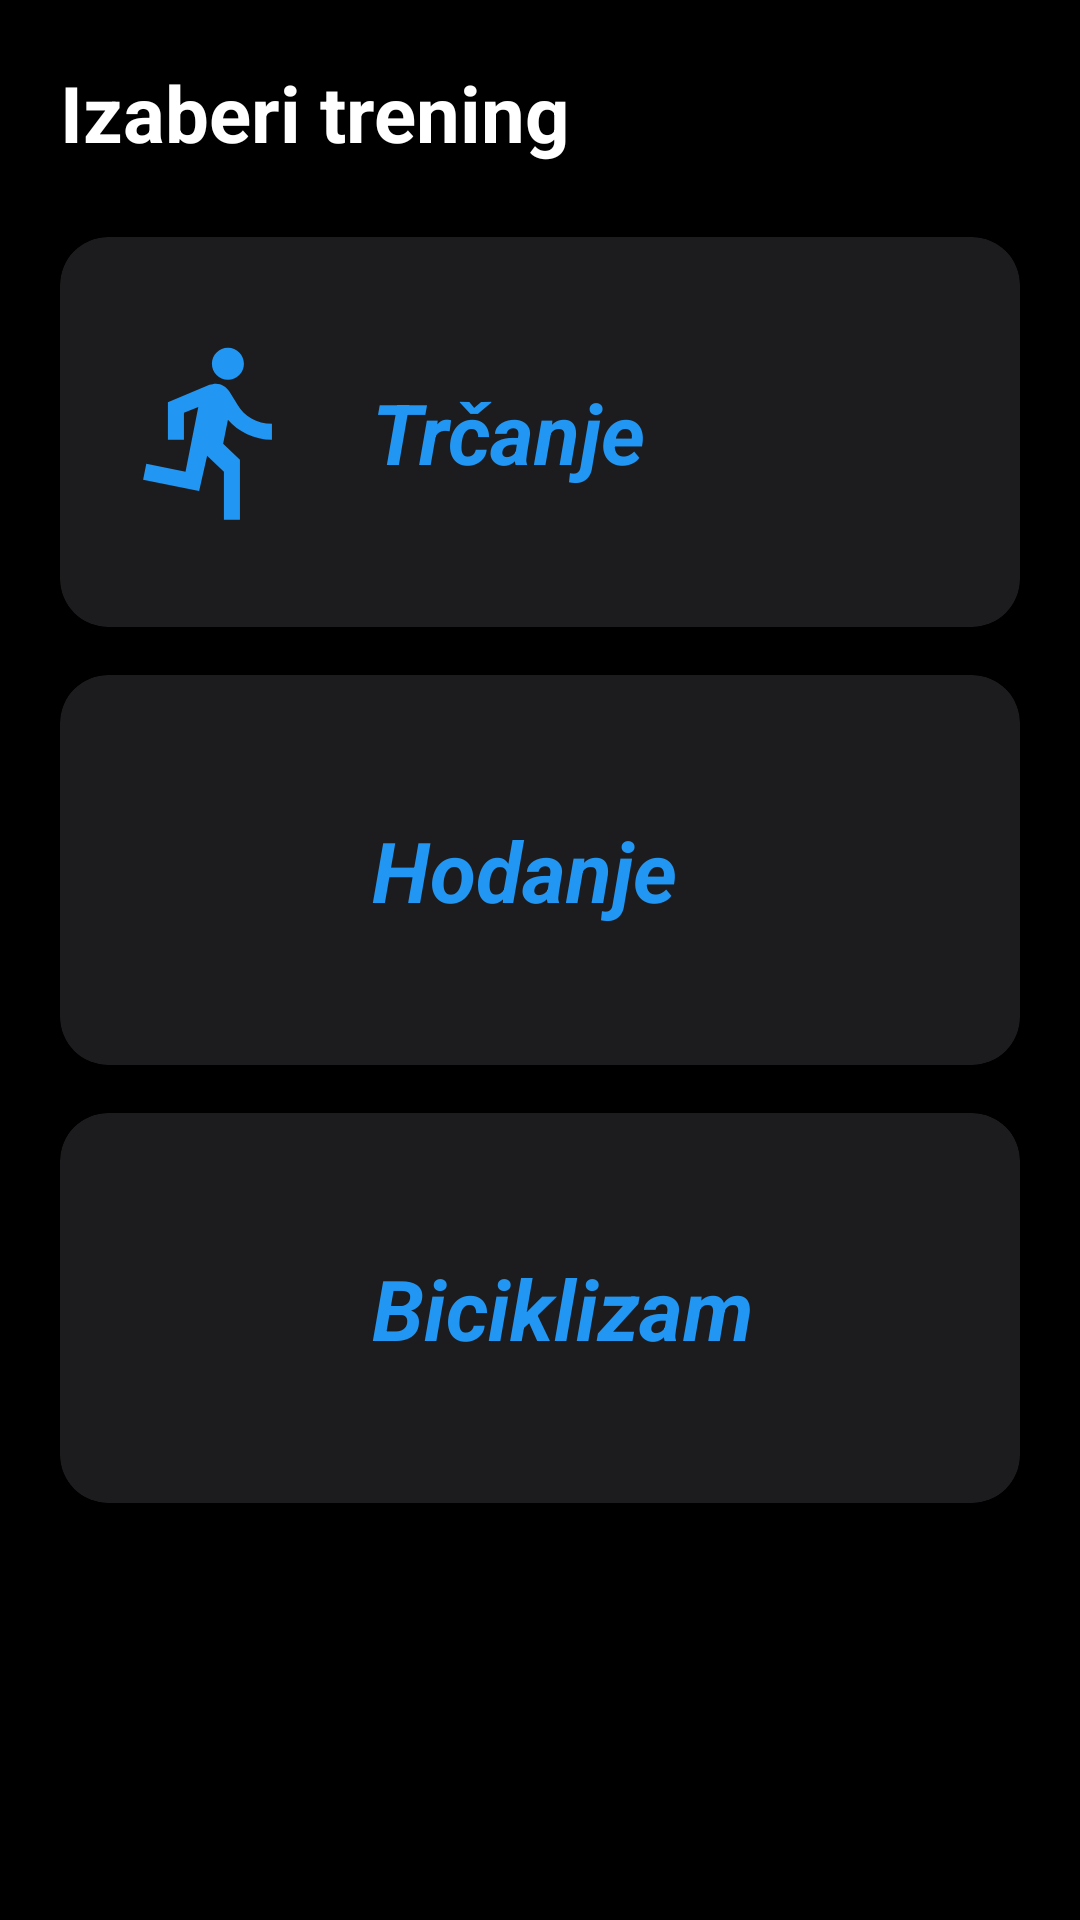

Locate icon controls on the screen. Image size 1080 × 1920, boxes as detection(x1, y1, x2, y2).
running: detection(143, 347, 272, 520)
